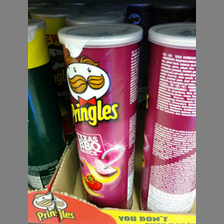chips: (58, 22, 143, 211), (138, 19, 196, 213)
